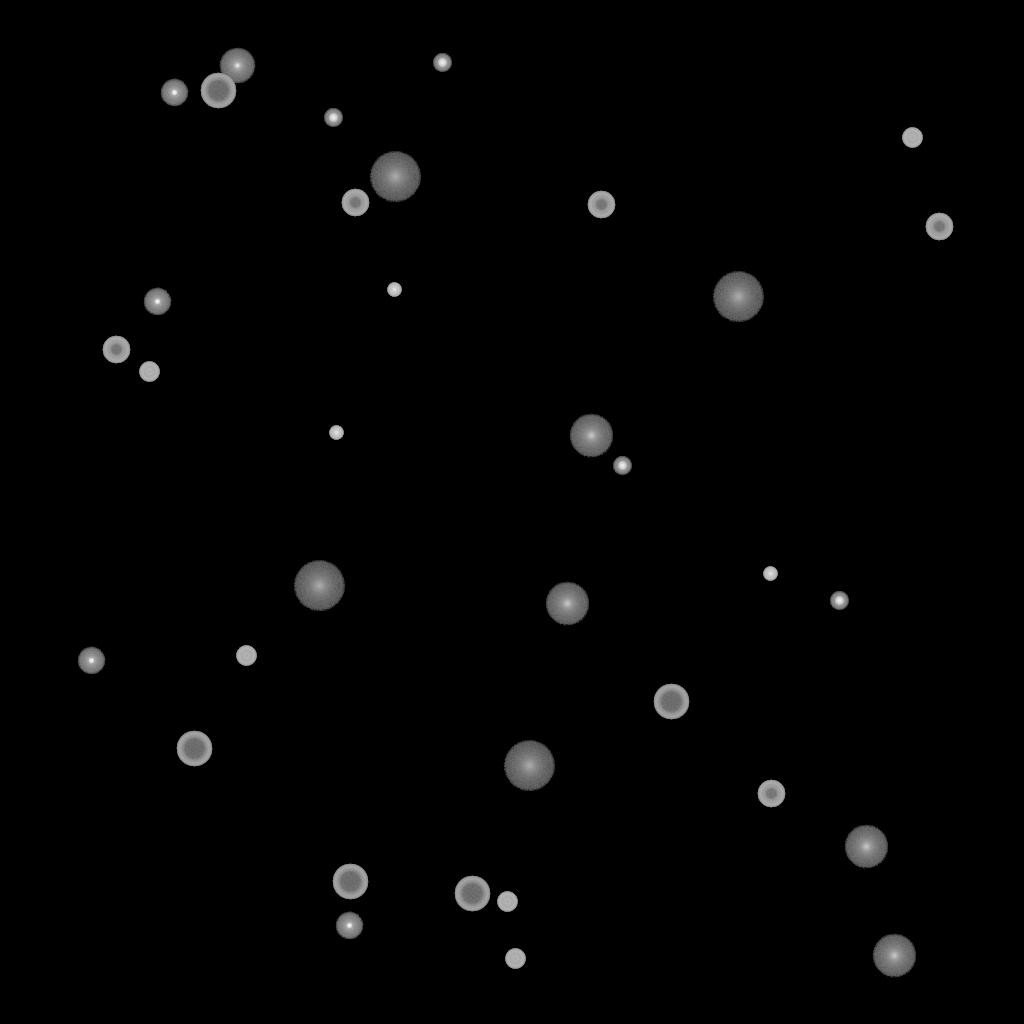depth:-10: (160, 79, 188, 107), (335, 912, 363, 940), (77, 647, 105, 675), (143, 288, 171, 316)
depth:-20: (613, 457, 631, 475), (433, 54, 451, 72), (830, 592, 848, 610), (324, 109, 342, 127)
depth:-30: (329, 426, 343, 440), (387, 283, 401, 297), (763, 567, 777, 581)
depth:-40: (505, 949, 525, 969), (139, 362, 159, 382), (497, 892, 517, 912), (902, 128, 922, 148), (236, 646, 256, 666)
depth:-50: (925, 213, 953, 241), (587, 191, 615, 219), (102, 336, 130, 364), (341, 189, 369, 217), (757, 780, 785, 808)
depth:-60: (653, 684, 689, 720), (176, 731, 212, 767), (454, 876, 490, 912), (332, 864, 368, 900), (200, 73, 236, 109)
depth:0: (219, 48, 255, 84)
depth:10: (844, 825, 888, 869), (569, 414, 613, 458), (872, 934, 916, 978), (545, 582, 589, 626)
depth:20: (369, 152, 421, 202), (712, 272, 764, 322), (293, 561, 345, 611), (503, 741, 555, 791)
